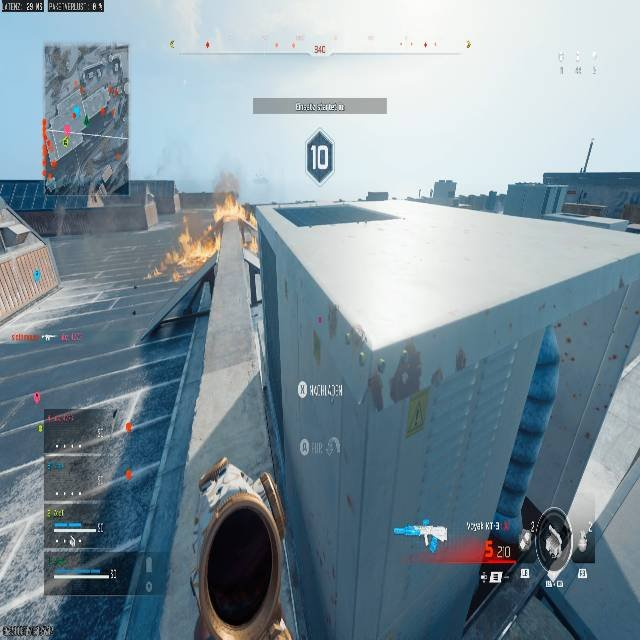player: (471, 506, 604, 639)
